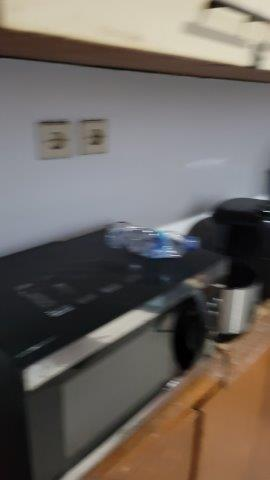botolplastik: (106, 220, 202, 262)
